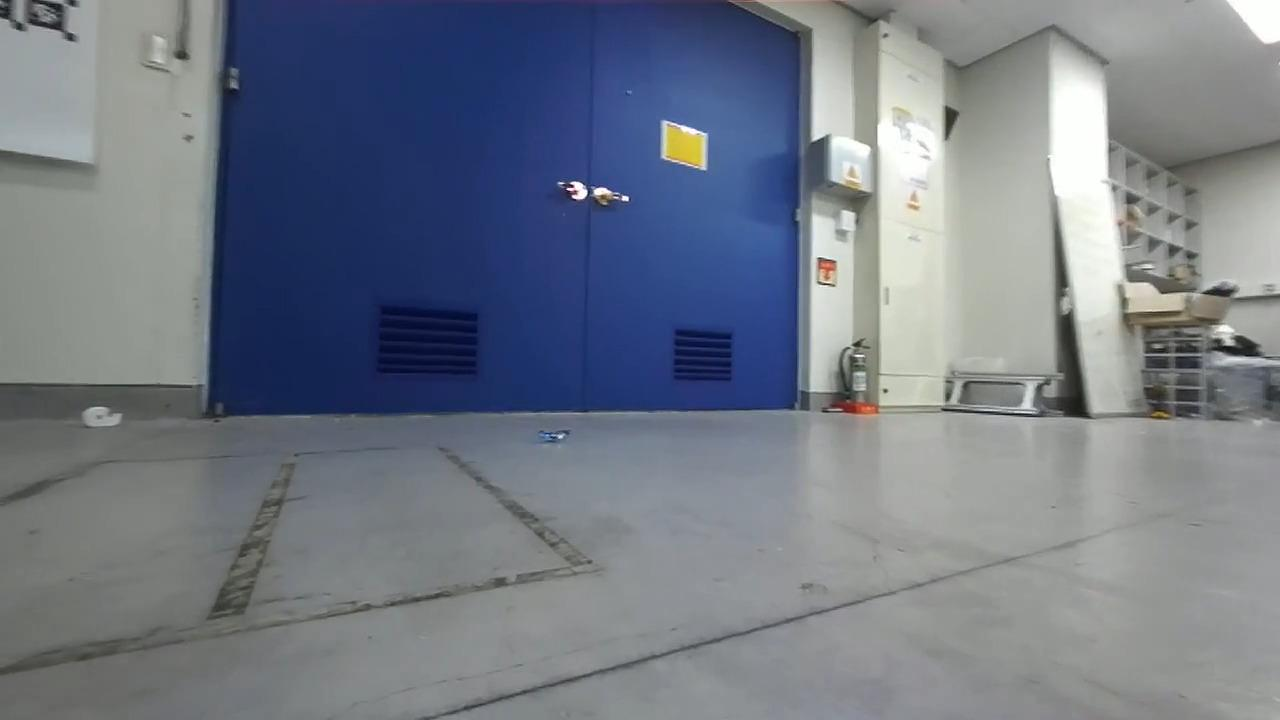crazyflie: (533, 426, 572, 447)
